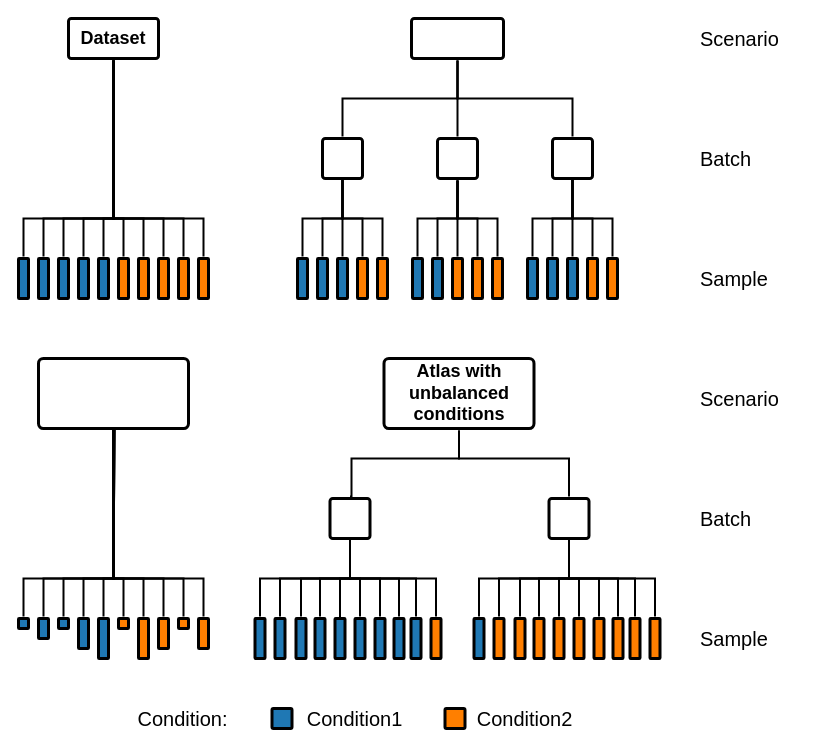
The diagram is 816 pixels wide and 756 high, and some of its shapes have lost their labels. Here are the shapes that lost their labels. From the top down, the box of each, then its label:
(410, 16, 504, 60): Atlas
(36, 356, 190, 430): Dataset with varying cell numbers
